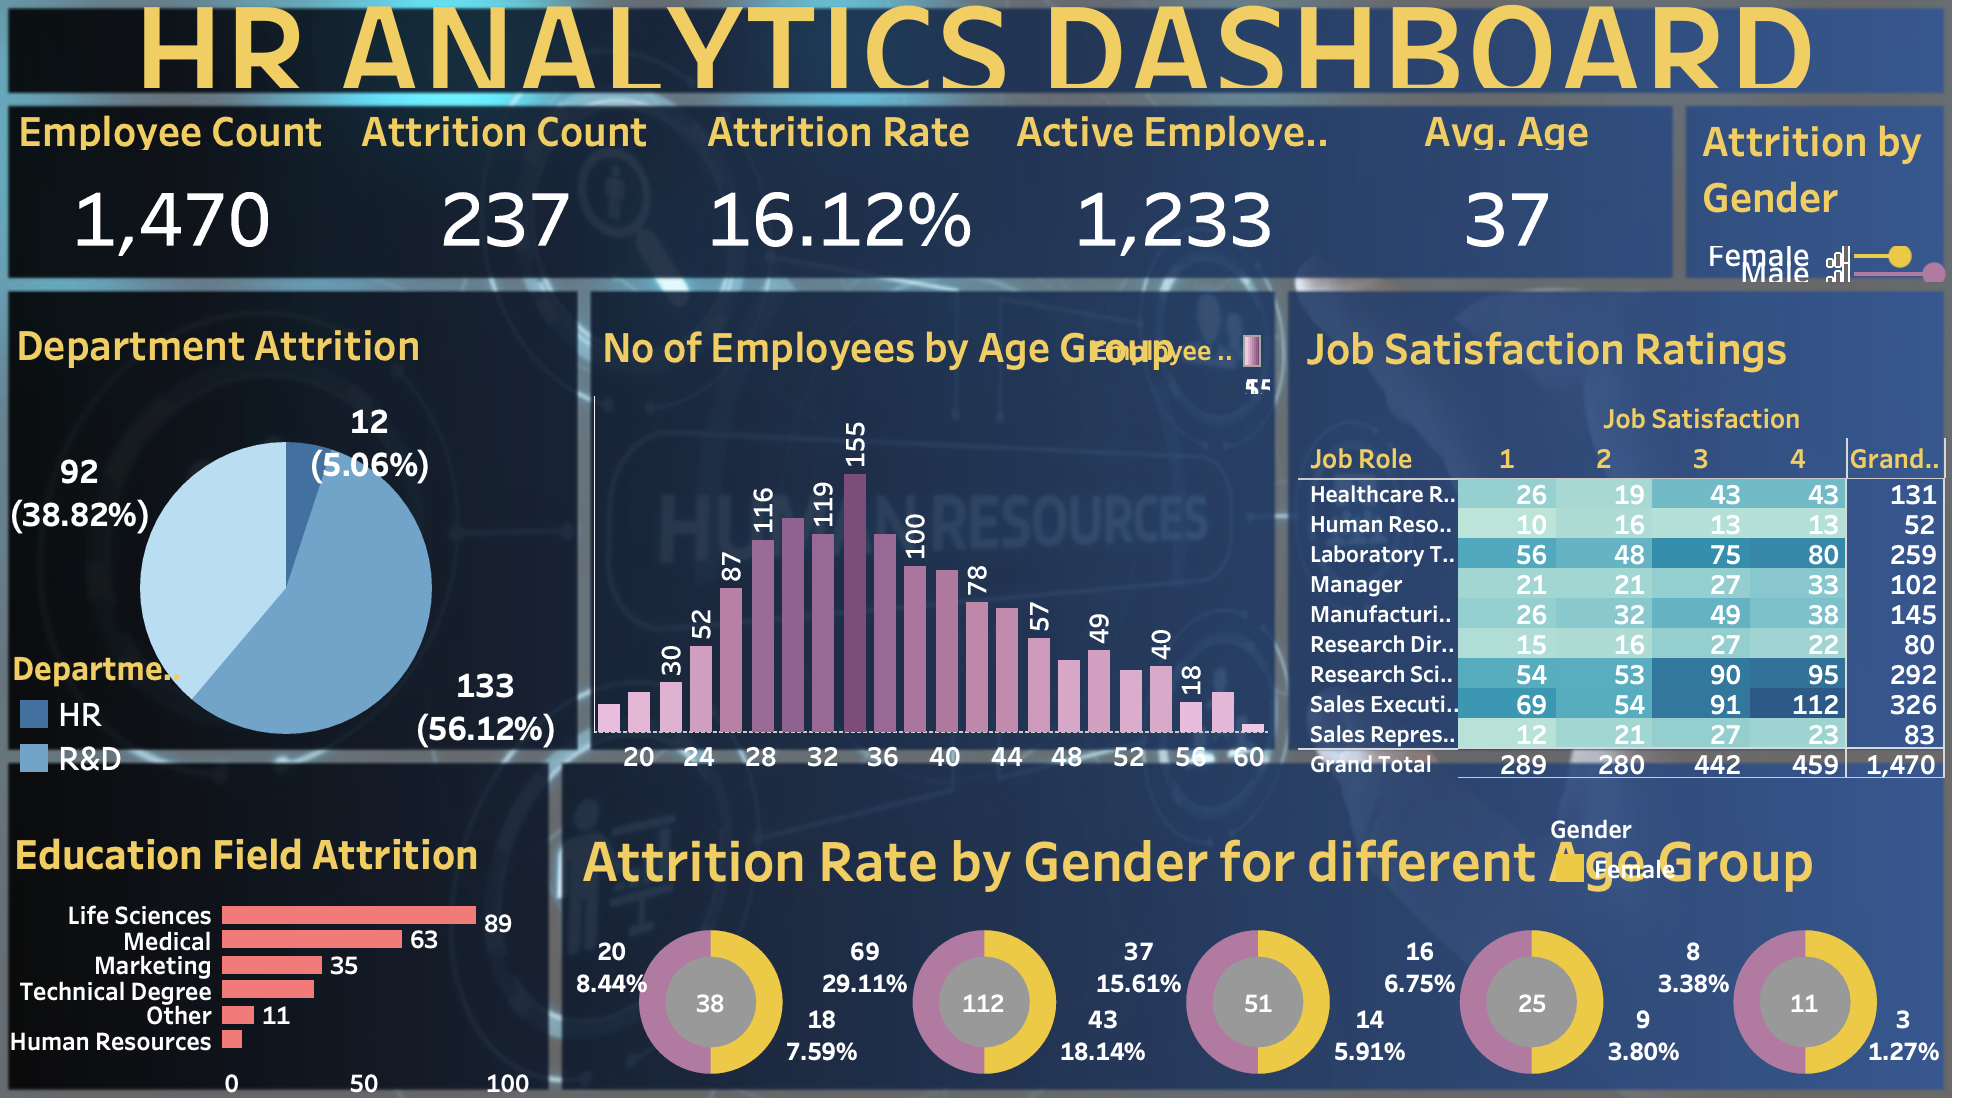

The page's visual inventory and layout, read from the dashboard file:
{"tool":"tableau","page":{"name":"HR Analytics Dashboard","canvas":[1580,900],"ordinal":0},"visuals":[{"type":"image","param":"Image/HR background.pptx.png","box":[8,8,1564,884]},{"type":"text","box":[20,19,1538,65]},{"type":"worksheet","title":"Attrition by Gender","mark":"Automatic","rows":["Gender"],"cols":["Calculation_4322963081727889408","Calculation_4322963081727889408"],"box":[1358,96,203,134]},{"type":"worksheet","title":"KPI","mark":"Automatic","box":[22,101,1319,129]},{"type":"worksheet","title":"Department Attrition","mark":"Pie","box":[25,249,440,355]},{"type":"worksheet","title":"Job Satisfaction Ratings","mark":"Square","rows":["Job Role"],"cols":["Job Satisfaction"],"box":[1045,250,512,352]},{"type":"worksheet","title":"No of Employees by Age Group","mark":"Automatic","rows":["Employee Count"],"cols":["Age (bin)"],"box":[489,251,532,350]},{"type":"legend","title":"No of Employees by Age Group","param":"[federated.1t78mpk1f2aaiz1fdbd021n9om12].[sum:Employee Count:qk]","box":[882,264,140,50]},{"type":"legend","title":"Department Attrition","param":"[federated.1t78mpk1f2aaiz1fdbd021n9om12].[none:Department:nk]","box":[28,503,142,95]},{"type":"legend","title":"Attrition Rate by Gender for different Age Group ","param":"[federated.1t78mpk1f2aaiz1fdbd021n9om12].[none:Gender:nk]","box":[1243,627,245,58]},{"type":"worksheet","title":"Attrition Rate by Gender for different Age Group ","mark":"Pie","rows":["Calculation_4322963081825902598","Calculation_4322963081826119688"],"cols":["CF_age band"],"box":[473,628,1081,244]},{"type":"worksheet","title":"Education Field Attrition","mark":"Automatic","rows":["Education Field"],"cols":["Calculation_4322963081727889408"],"box":[24,631,418,238]}]}

Visuals, with their boxes in screenshot pixels (x1, y1, x2, y2), scaled from the page's 1580x900 canvas onto the 1962x1104 screenshot:
image: select_region(10, 10, 1952, 1094)
text: select_region(25, 23, 1935, 103)
"Attrition by Gender" worksheet: select_region(1686, 118, 1938, 282)
"KPI" worksheet: select_region(27, 124, 1665, 282)
"Department Attrition" worksheet (Pie marks): select_region(31, 305, 577, 741)
"Job Satisfaction Ratings" worksheet (Square marks): select_region(1298, 307, 1933, 738)
"No of Employees by Age Group" worksheet: select_region(607, 308, 1268, 737)
"No of Employees by Age Group" legend: select_region(1095, 324, 1269, 385)
"Department Attrition" legend: select_region(35, 617, 211, 734)
"Attrition Rate by Gender for different Age Group " legend: select_region(1544, 769, 1848, 840)
"Attrition Rate by Gender for different Age Group " worksheet (Pie marks): select_region(587, 770, 1930, 1070)
"Education Field Attrition" worksheet: select_region(30, 774, 549, 1066)
